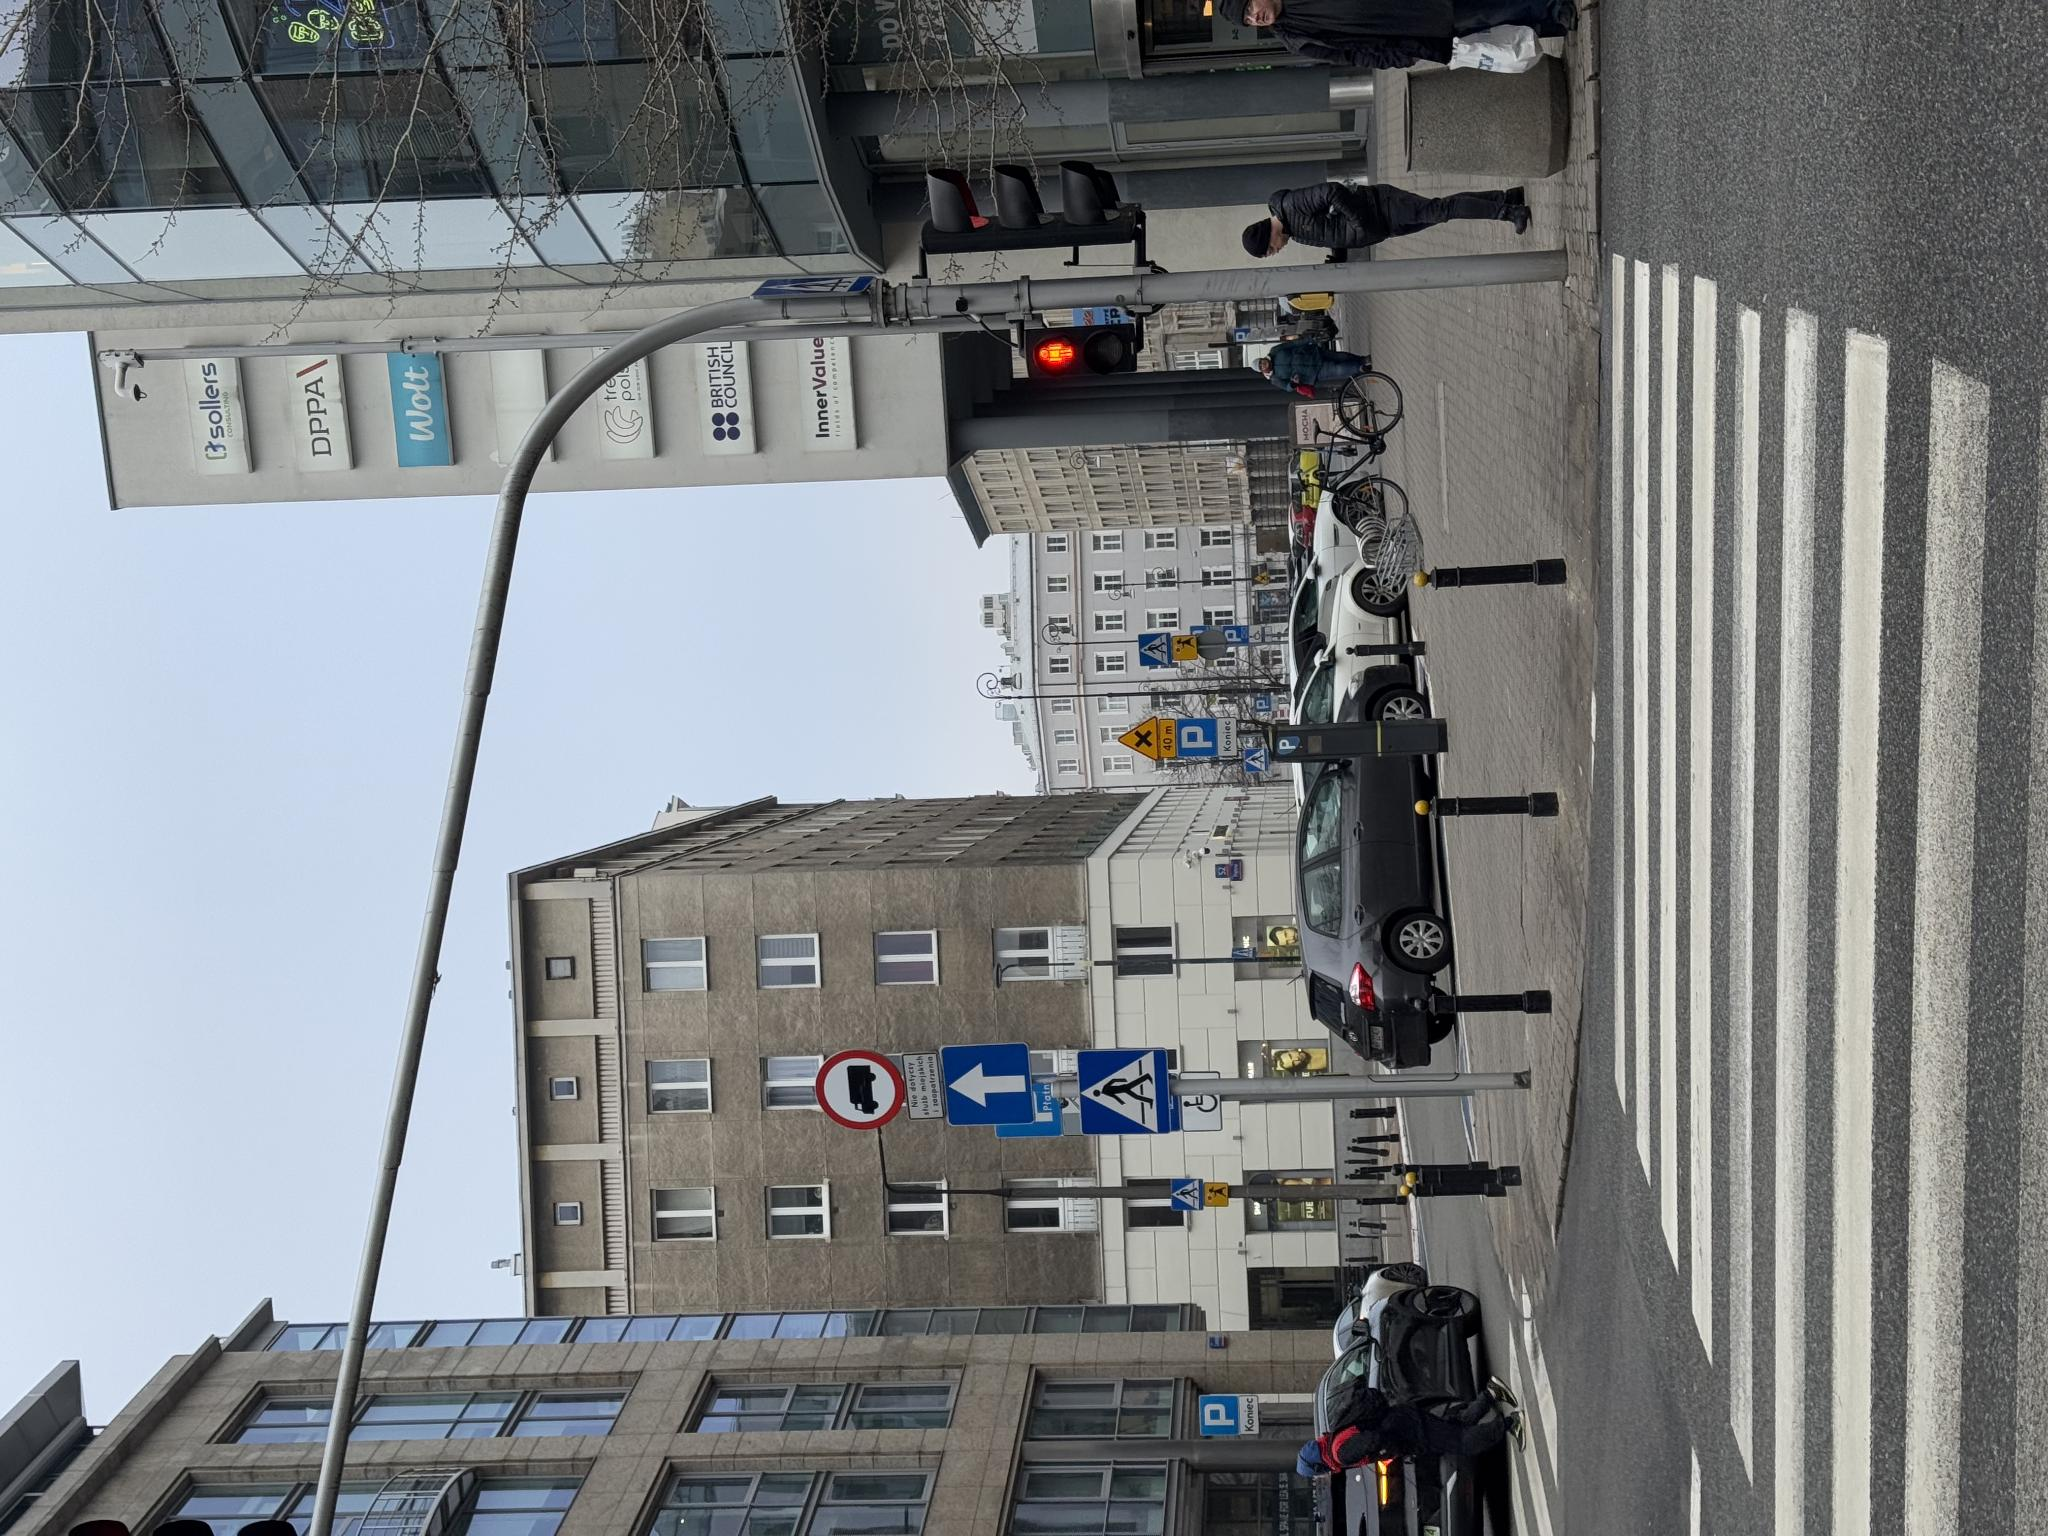information: (412, 938, 496, 1036), (402, 1078, 488, 1168), (100, 1200, 142, 1240), (778, 1178, 818, 1216), (870, 1137, 902, 1171), (326, 1170, 358, 1204), (764, 1244, 788, 1268), (894, 1224, 910, 1248), (578, 1232, 588, 1256), (825, 1254, 839, 1270)
other: (417, 909, 485, 941), (405, 1180, 441, 1222), (102, 1240, 142, 1260), (782, 1218, 818, 1238), (779, 1160, 817, 1176), (876, 1173, 900, 1197), (329, 1206, 353, 1228), (893, 1250, 911, 1260), (826, 1272, 840, 1278)
prohibitory: (405, 814, 487, 904)
warning: (774, 1117, 820, 1159), (951, 1254, 965, 1268)
